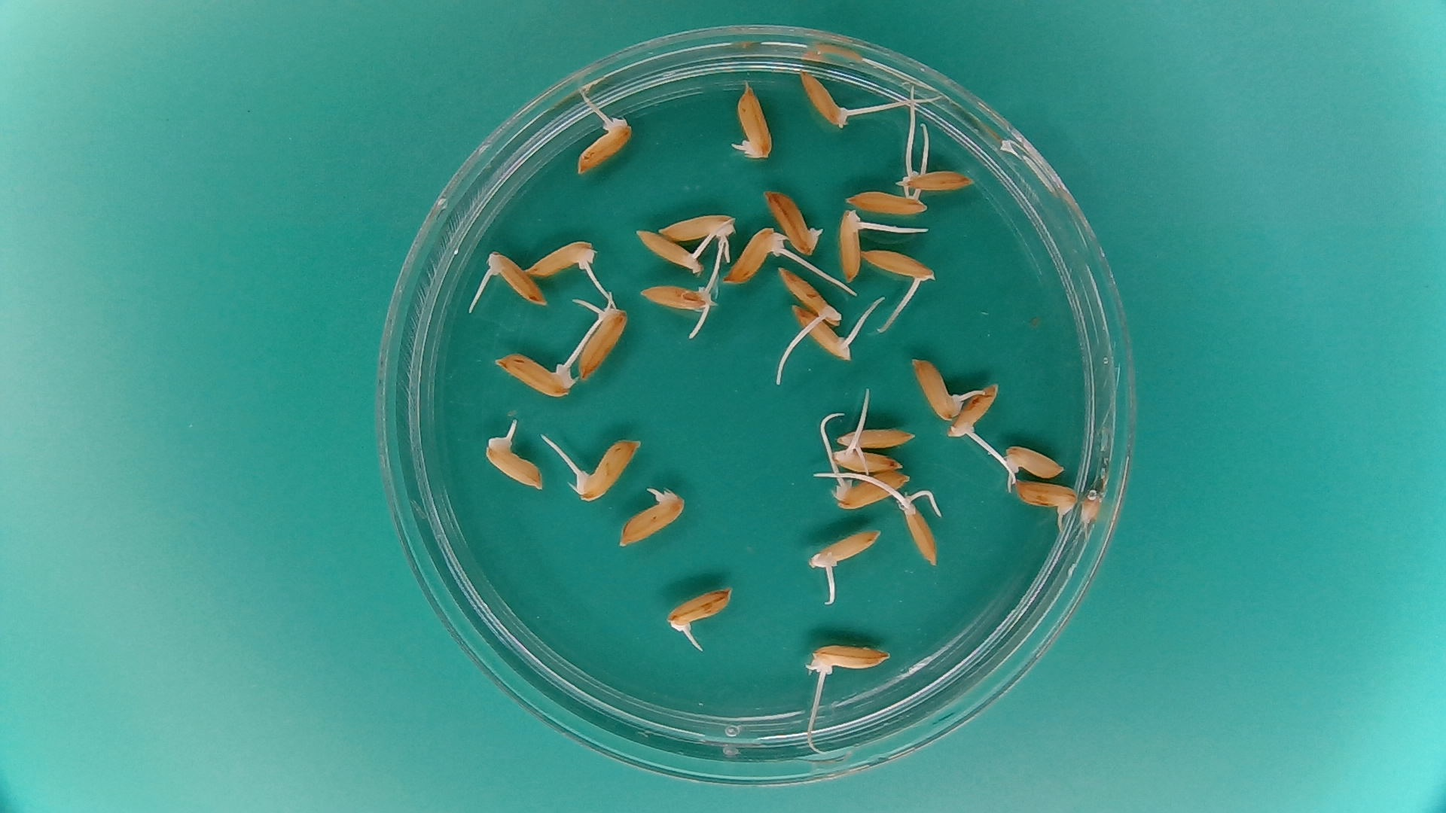no: (765, 190, 824, 254)
yes: (775, 266, 844, 327), (575, 435, 639, 499), (790, 306, 861, 362), (632, 226, 709, 276), (575, 109, 630, 177), (485, 248, 549, 305), (722, 225, 782, 285), (578, 306, 627, 379), (807, 524, 881, 571), (499, 351, 574, 397), (910, 357, 961, 423), (485, 440, 546, 494), (794, 69, 847, 131), (620, 491, 682, 544), (803, 641, 888, 679), (826, 473, 908, 510), (862, 248, 936, 289), (732, 85, 772, 160), (1011, 479, 1079, 523), (525, 239, 596, 281), (950, 382, 999, 442), (655, 211, 740, 245), (898, 500, 939, 568), (838, 209, 876, 282), (666, 589, 732, 631), (845, 184, 930, 215), (637, 282, 716, 315), (835, 425, 918, 455), (895, 163, 972, 195), (1004, 444, 1067, 483), (831, 445, 901, 474)
